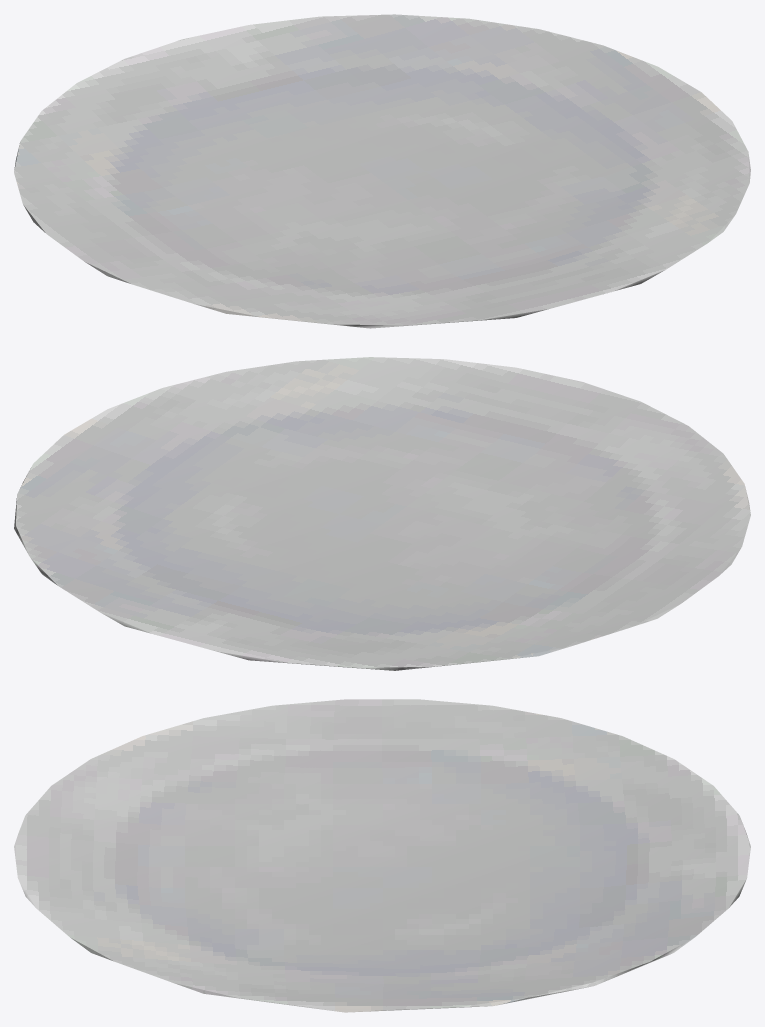
Rendered from platoFregadero.fbx.
3 renders of one model, top to bottom at view 1: azimuth 30°, elevation 25°; view 2: azimuth 150°, elevation 25°; view 3: azimuth 270°, elevation 25°, orthographic.
Parts seen in each view (by area): view 1: s4studio_mesh_1; view 2: s4studio_mesh_1; view 3: s4studio_mesh_1.
Part boxes in pixels (x1=…): s4studio_mesh_1: x1=14, y1=14, x2=750, y2=328; s4studio_mesh_1: x1=14, y1=357, x2=750, y2=670; s4studio_mesh_1: x1=14, y1=699, x2=750, y2=1012.
Bounding box in the file's own units: 24.57 × 1.65 × 24.61.
1 material, 1 textured.
